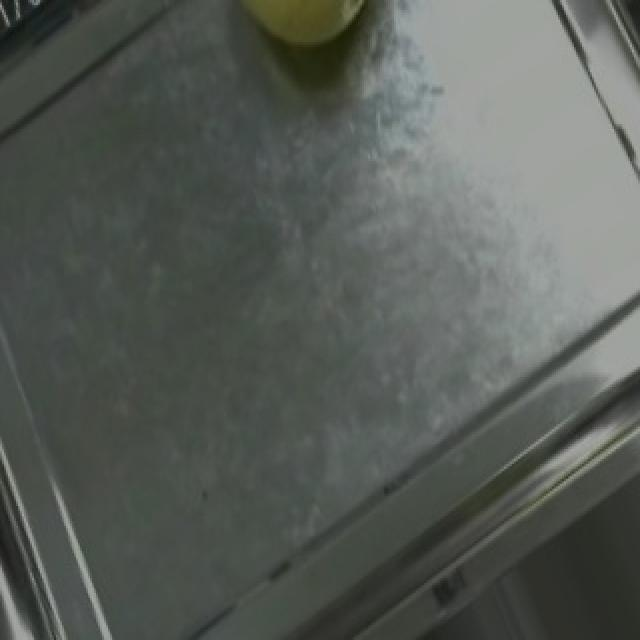Fruit: (196, 0, 414, 82)
